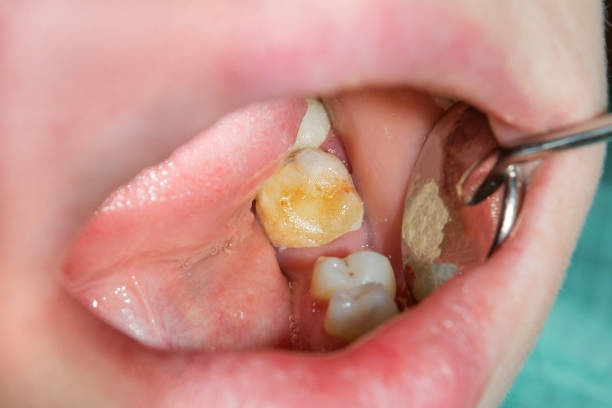Caries: (250, 151, 374, 251)
